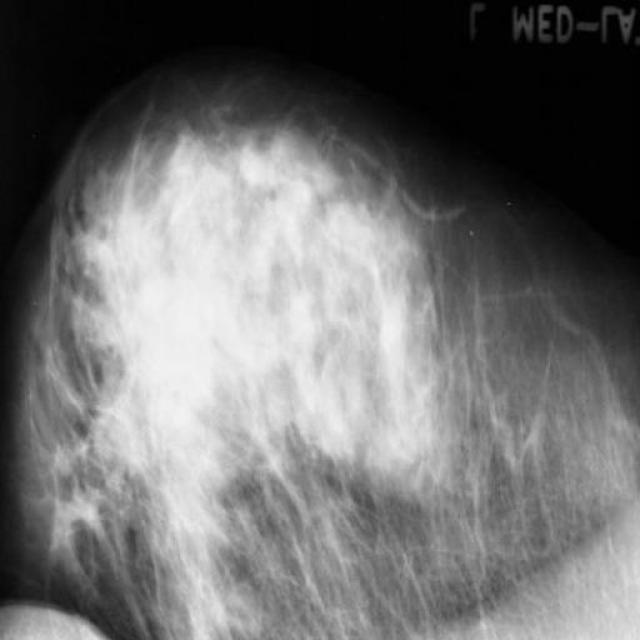cancer: (142, 274, 188, 354)
